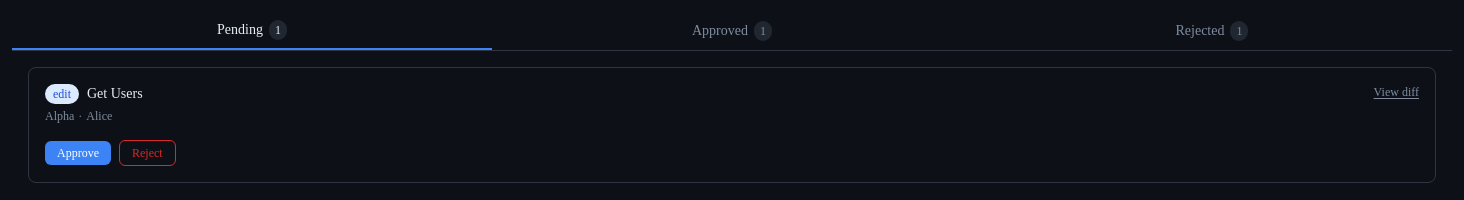
SuggestionPanel — tabs › switches to rejected tab and shows rejection note
Click the tab "rejected 1". click: x=1212, y=31
box: left=972, top=12, right=1452, bottom=50
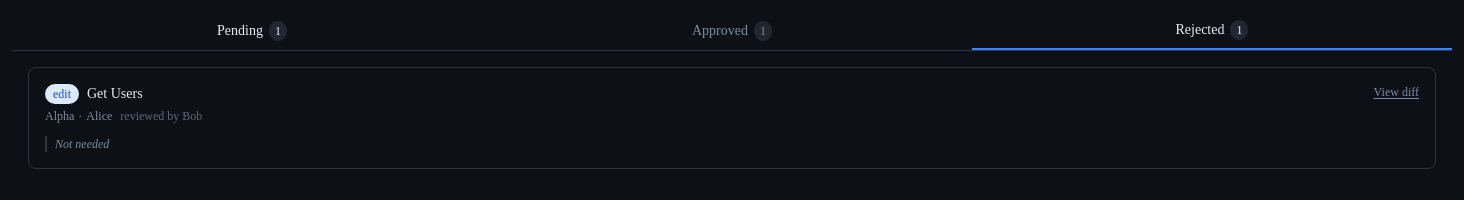
Check: the text "Not needed" is shown, box left=45, top=136, right=1419, bottom=152
